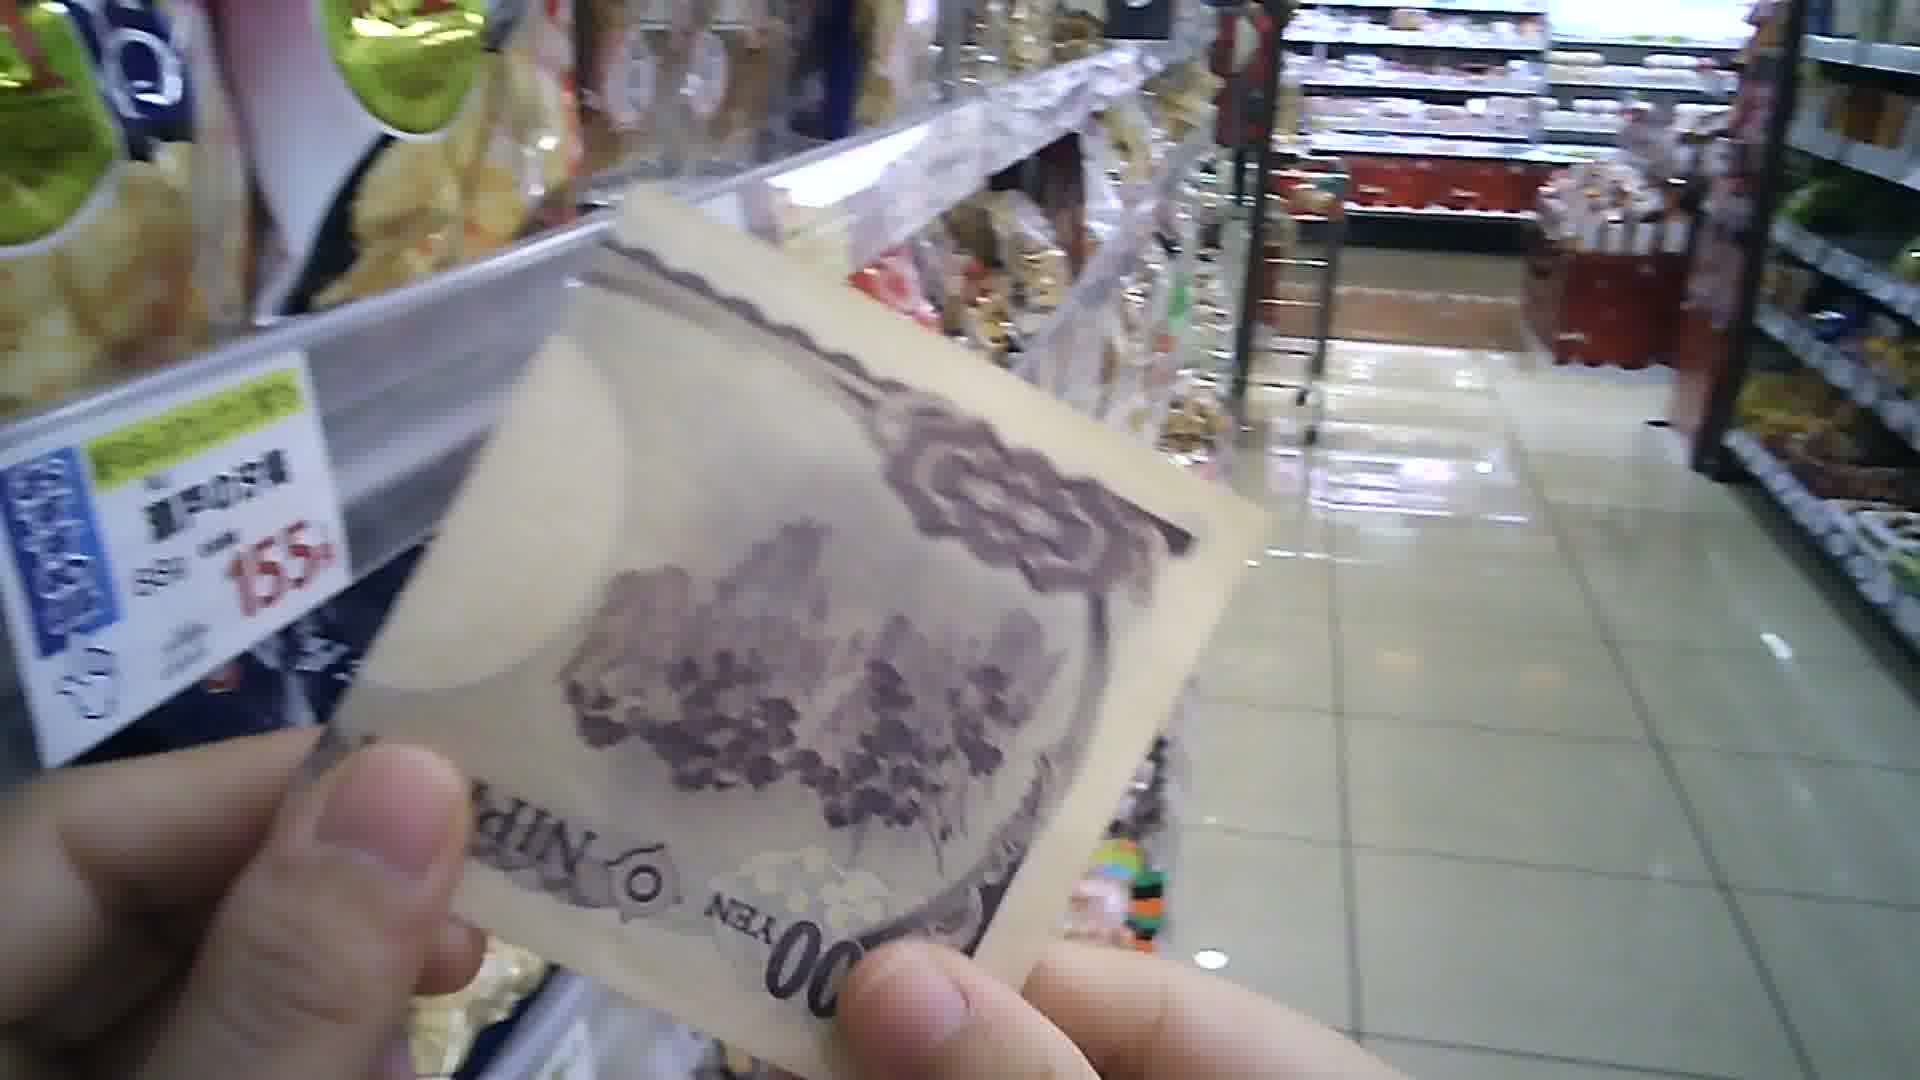5,000 Yen: (324, 178, 1240, 1069)
